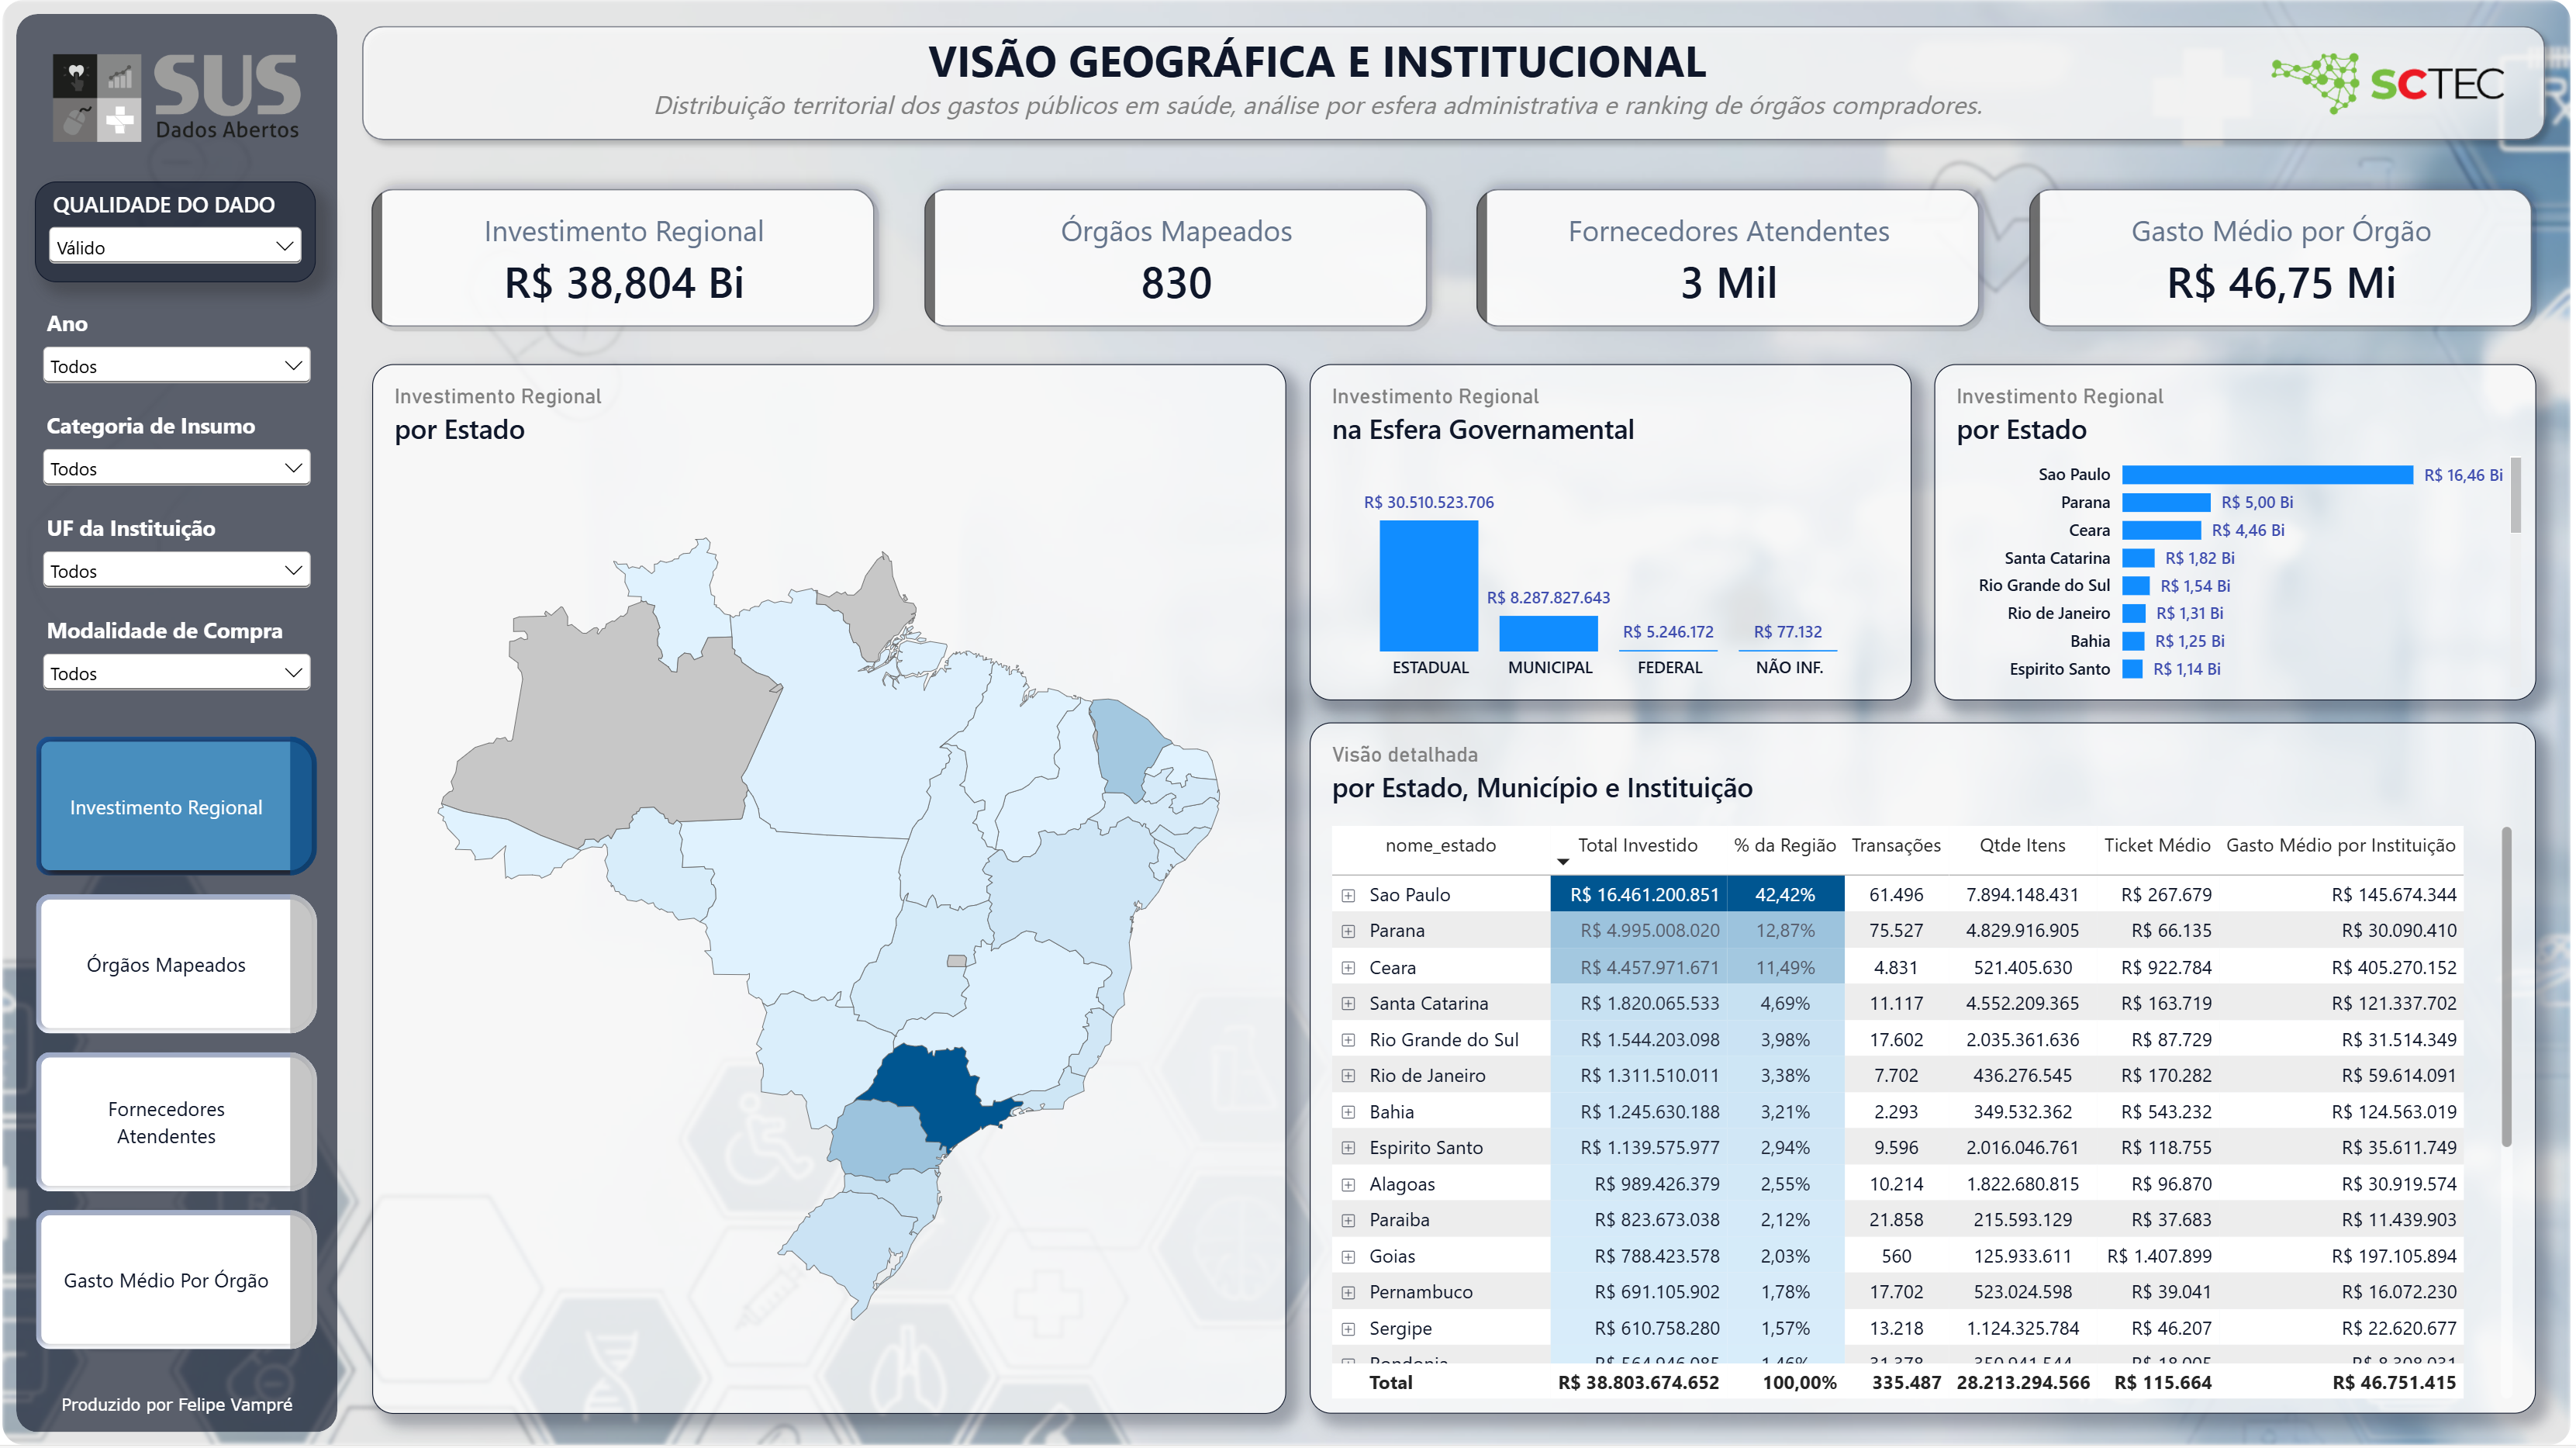

Layout of this report page (visuals, bound fields, positions):
{"tool":"powerbi","page":{"name":"2. Visão Geográfica e Institucional","canvas":[1920,1080],"ordinal":2},"visuals":[{"type":"image","box":[0,0,1920,1080],"z":0},{"type":"shape","box":[260,10,1650,103.3],"z":1000},{"type":"textbox","box":[276.7,22.2,1413.3,72.2],"z":2000},{"type":"shape","box":[10,10,240,1060],"z":3000},{"type":"cardVisual","fields":{"Data":["_Medidas.Total_Gasto","_Medidas.Total_Instituicoes","_Medidas.Total_Fornecedores","_Medidas.Gasto_Medio_por_Instituicao"]},"box":[260,125.6,1650,135.6],"z":4000},{"type":"shapeMap","fields":{"Category":["dim_instituicao.nome_estado"],"Value":["_Medidas.Total_Gasto"]},"box":[276.7,272.2,683.3,784.4],"z":5000},{"type":"image","box":[1690,22.2,190,80],"z":6000},{"type":"image","box":[25.6,27.8,210,91.1],"z":7000},{"type":"textbox","box":[26,1039,209,31],"z":8000},{"type":"advancedSlicerVisual","fields":{"Values":["Parâmetro Geográfico.Parâmetros Geográficos"]},"box":[25.6,550,210,460],"z":9000},{"type":"barChart","fields":{"Category":["dim_instituicao.nome_estado"],"Y":["_Medidas.Total_Gasto"]},"box":[1444.4,272.2,450,251.1],"z":10000},{"type":"columnChart","fields":{"Category":["dim_instituicao.esfera"],"Y":["_Medidas.Total_Gasto"]},"box":[977.2,272.2,450,251.1],"z":11000},{"type":"pivotTable","title":"Visão detalhada","fields":{"Rows":["dim_instituicao.nome_estado","dim_instituicao.municipio_instituicao","dim_instituicao.nome_instituicao"],"Values":["_Medidas.Total_Gasto","_Medidas.%_do_Total_Tabela","_Medidas.Total_Transacoes","_Medidas.Total_Qtd_Itens","_Medidas.Ticket_Medio","_Medidas.Gasto_Medio_por_Instituicao"]},"box":[977.8,540,916.7,516.7],"z":12000},{"type":"slicer","title":"Ano","fields":{"Values":["dim_calendario.nr_ano","dim_calendario.nm_mes"]},"box":[25,230,210,80],"z":13000},{"type":"slicer","fields":{"Values":["dim_produto.categoria_insumo"]},"box":[25.6,306.7,210,80],"z":14000},{"type":"slicer","fields":{"Values":["dim_instituicao.uf"]},"box":[25,383.3,210,80],"z":15000},{"type":"slicer","fields":{"Values":["fato_compras.modalidade_compra"]},"box":[25,460,210,80],"z":16000},{"type":"slicer","title":"Ano","fields":{"Values":["fato_compras.flag_qualidade_dado"]},"box":[23.9,135.2,209.9,75],"z":17000}]}

Visuals, with their boxes in screenshot pixels (x1, y1, x2, y2), scaled from the page's 1920x1080 canvas onto the 2576x1448 screenshot:
image: region(0, 0, 2575, 1447)
shape: region(349, 13, 2563, 152)
textbox: region(371, 29, 2267, 126)
shape: region(13, 13, 336, 1435)
cardVisual - _Medidas.Total_Gasto x _Medidas.Total_Instituicoes: region(349, 168, 2563, 351)
shapeMap - dim_instituicao.nome_estado x _Medidas.Total_Gasto: region(371, 365, 1288, 1417)
image: region(2267, 29, 2522, 137)
image: region(34, 37, 316, 160)
textbox: region(35, 1393, 316, 1435)
advancedSlicerVisual - Parâmetro Geográfico.Parâmetros Geográficos: region(34, 738, 316, 1354)
barChart - dim_instituicao.nome_estado x _Medidas.Total_Gasto: region(1938, 365, 2542, 702)
columnChart - dim_instituicao.esfera x _Medidas.Total_Gasto: region(1311, 365, 1915, 702)
"Visão detalhada" pivotTable: region(1312, 724, 2542, 1417)
"Ano" slicer: region(33, 309, 316, 416)
slicer - dim_produto.categoria_insumo: region(34, 411, 316, 518)
slicer - dim_instituicao.uf: region(33, 514, 316, 621)
slicer - fato_compras.modalidade_compra: region(33, 617, 316, 724)
"Ano" slicer: region(32, 181, 314, 282)
